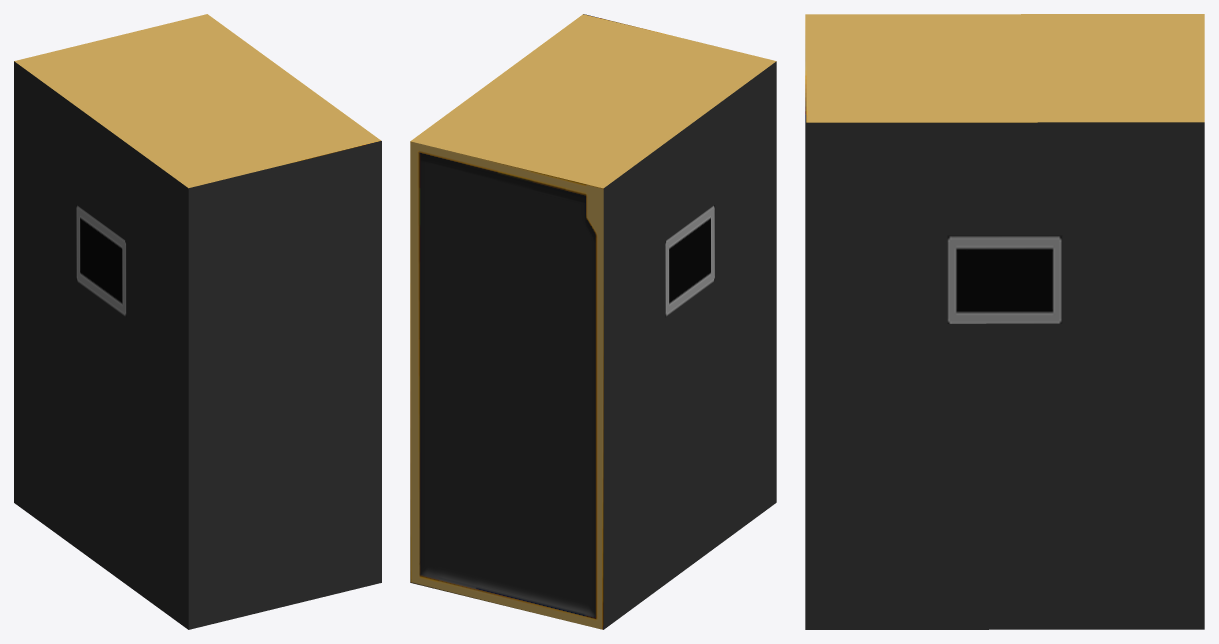
The model's file is Huge_base_speaker_4.fbx.
3 renders of one model, left to right at view 1: azimuth 30°, elevation 25°; view 2: azimuth 150°, elevation 25°; view 3: azimuth 270°, elevation 25°, orthographic. The views are drawn at different scales.
Visible parts, largest first — view 1: Huge_base_speaker_4; view 2: Huge_base_speaker_4; view 3: Huge_base_speaker_4.
Part boxes in pixels (x1=…): Huge_base_speaker_4: x1=14, y1=14, x2=381, y2=629; Huge_base_speaker_4: x1=410, y1=14, x2=776, y2=629; Huge_base_speaker_4: x1=805, y1=14, x2=1204, y2=629.
Size of the model in its own units: 1.83 by 3.98 by 2.84.
